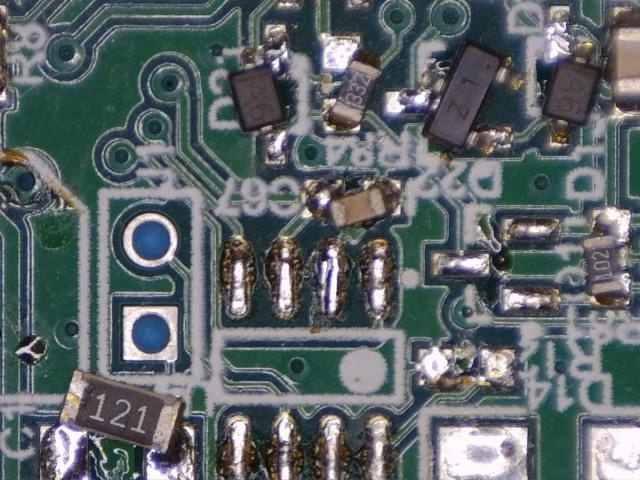pcb_defect: (37, 366, 199, 480), (383, 37, 524, 156), (226, 23, 291, 164), (539, 4, 604, 145), (321, 32, 383, 133), (582, 207, 633, 310), (303, 178, 402, 230)
